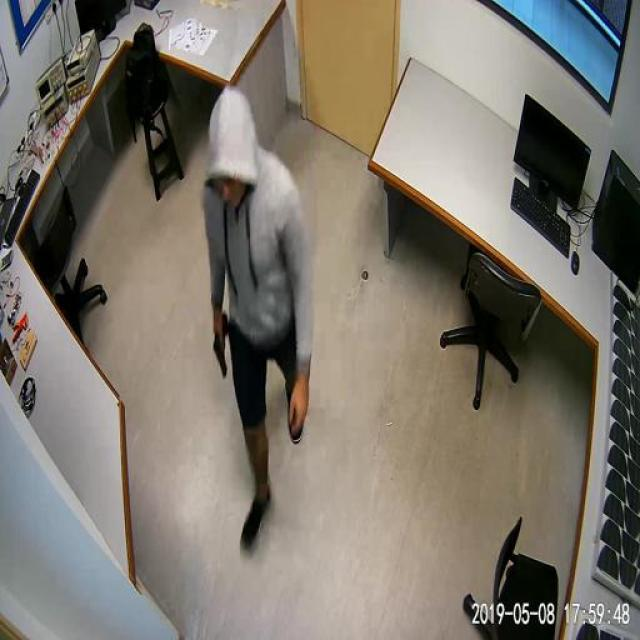Gun: (199, 323, 242, 391)
